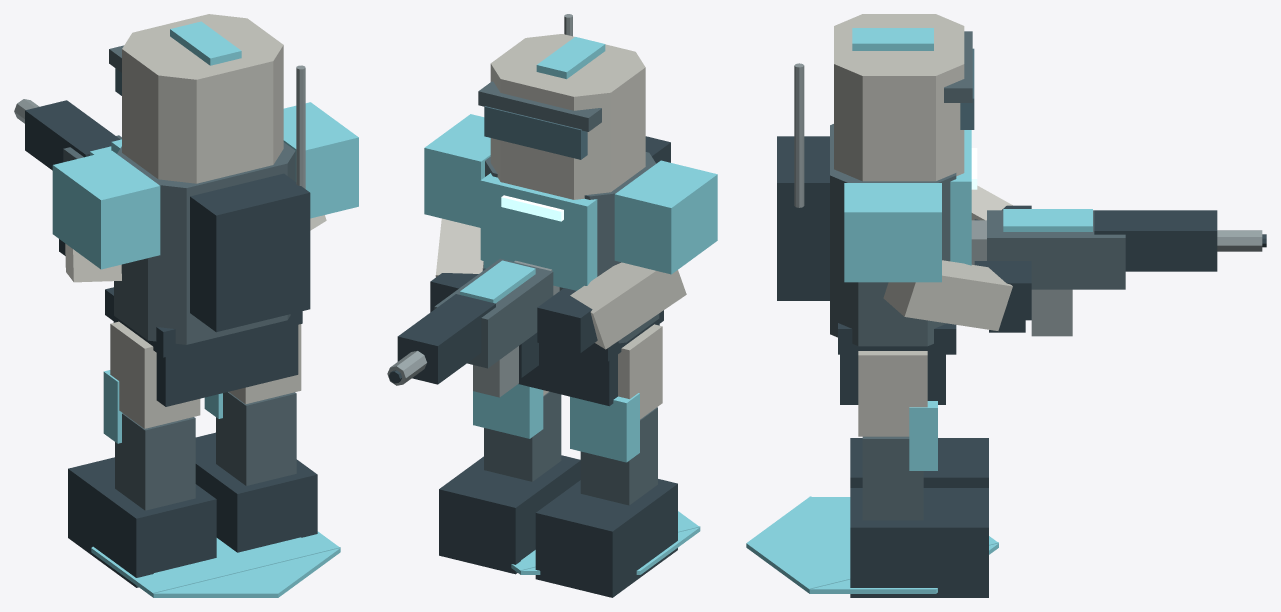
File: fighter-carbine-low.glb
The picture shows the model from 3 angles, left to right: view 1: azimuth 30°, elevation 25°; view 2: azimuth 150°, elevation 25°; view 3: azimuth 270°, elevation 25°; orthographic projection. The views are drawn at different scales.
Parts seen in each view (by area): view 1: asset_fighter-carbine__FP_Baked, leg_left__FP_Baked, asset_fighter-carbine__FP_Team, leg_right__FP_Baked, Hexagon, weapon__FP_Baked, Triangle, knee; view 2: asset_fighter-carbine__FP_Baked, asset_fighter-carbine__FP_Team, leg_left__FP_Baked, leg_right__FP_Baked, weapon__FP_Baked, knee, knee.001, accent, Hexagon, chest_light; view 3: asset_fighter-carbine__FP_Baked, leg_right__FP_Baked, weapon__FP_Baked, asset_fighter-carbine__FP_Team, Hexagon, Triangle, leg_left__FP_Baked, accent, knee.001.
Part boxes in pixels (x1=…): asset_fighter-carbine__FP_Baked: x1=59, y1=14, x2=326, y2=406; leg_left__FP_Baked: x1=68, y1=321, x2=216, y2=587; asset_fighter-carbine__FP_Team: x1=52, y1=21, x2=358, y2=269; leg_right__FP_Baked: x1=195, y1=324, x2=317, y2=552; Hexagon: x1=91, y1=531, x2=340, y2=597; weapon__FP_Baked: x1=14, y1=99, x2=121, y2=170; Triangle: x1=153, y1=537, x2=340, y2=593; knee: x1=103, y1=370, x2=122, y2=443; asset_fighter-carbine__FP_Baked: x1=430, y1=14, x2=686, y2=406; asset_fighter-carbine__FP_Team: x1=424, y1=37, x2=717, y2=290; leg_left__FP_Baked: x1=535, y1=324, x2=677, y2=597; leg_right__FP_Baked: x1=439, y1=390, x2=580, y2=574; weapon__FP_Baked: x1=387, y1=258, x2=559, y2=397; knee: x1=570, y1=393, x2=639, y2=462; knee.001: x1=473, y1=384, x2=543, y2=438; accent: x1=460, y1=260, x2=535, y2=303; Hexagon: x1=511, y1=511, x2=700, y2=574; chest_light: x1=501, y1=195, x2=563, y2=221; asset_fighter-carbine__FP_Baked: x1=777, y1=14, x2=1031, y2=404; leg_right__FP_Baked: x1=850, y1=351, x2=988, y2=597; weapon__FP_Baked: x1=971, y1=210, x2=1266, y2=336; asset_fighter-carbine__FP_Team: x1=844, y1=28, x2=971, y2=282; Hexagon: x1=746, y1=497, x2=998, y2=593; Triangle: x1=809, y1=496, x2=998, y2=589; leg_left__FP_Baked: x1=850, y1=438, x2=988, y2=487; accent: x1=1003, y1=209, x2=1092, y2=231; knee.001: x1=909, y1=401, x2=937, y2=470.
Bounding box in the file's own units: 0.74 × 1.4 × 1.28.
